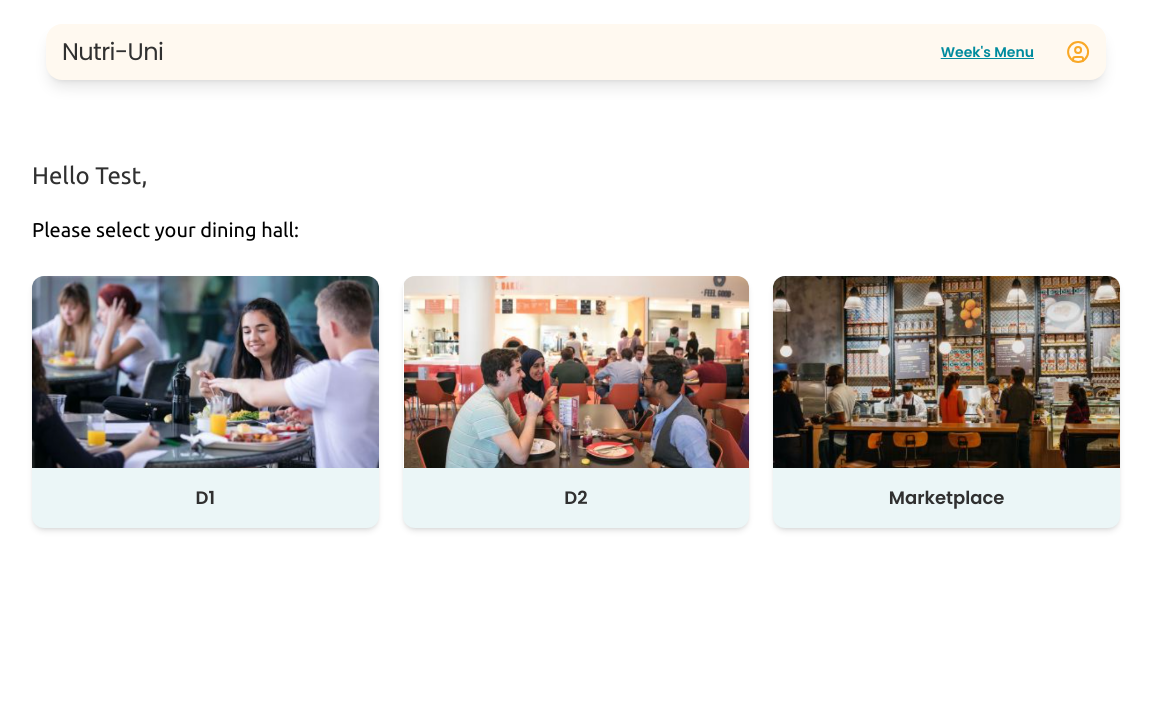
Test: StudentDashboard › displays error on fetch failure
The image size is (1152, 720).
# Simulate selecting a dining hall (triggers error render)
Click the text "D1".
click(205, 498)  # box [196, 485, 215, 510]
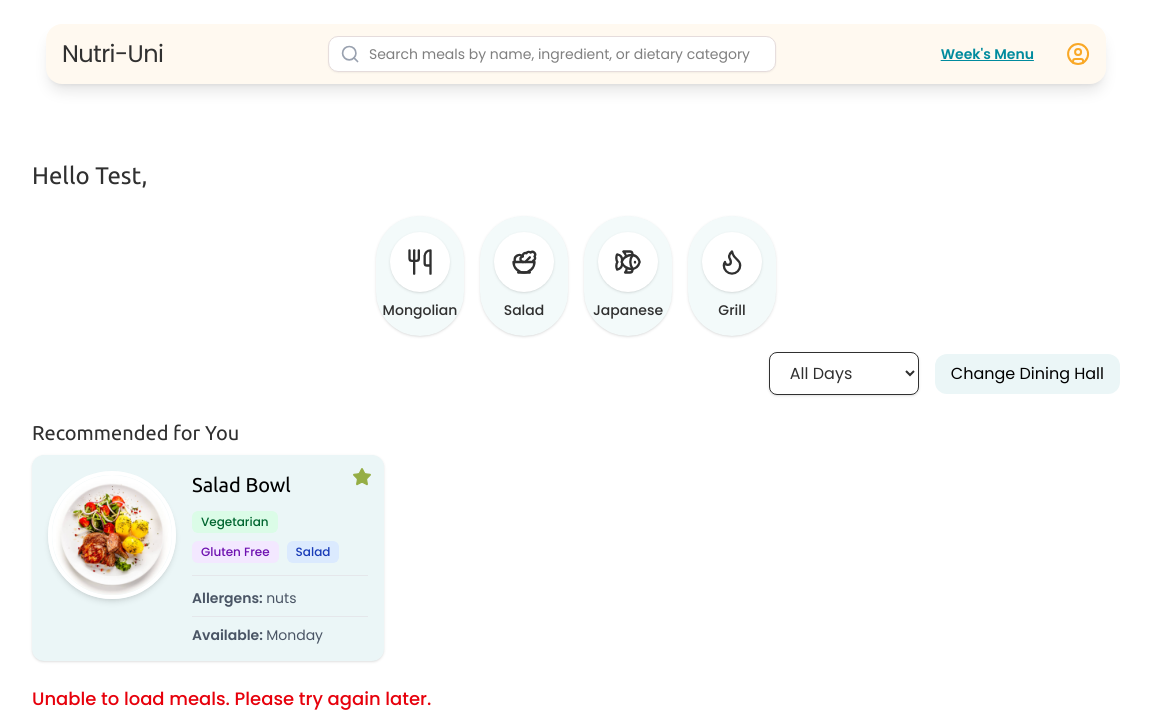
Expected: the text "Unable to load meals. Please try again later." is shown, [32, 686, 431, 711]
